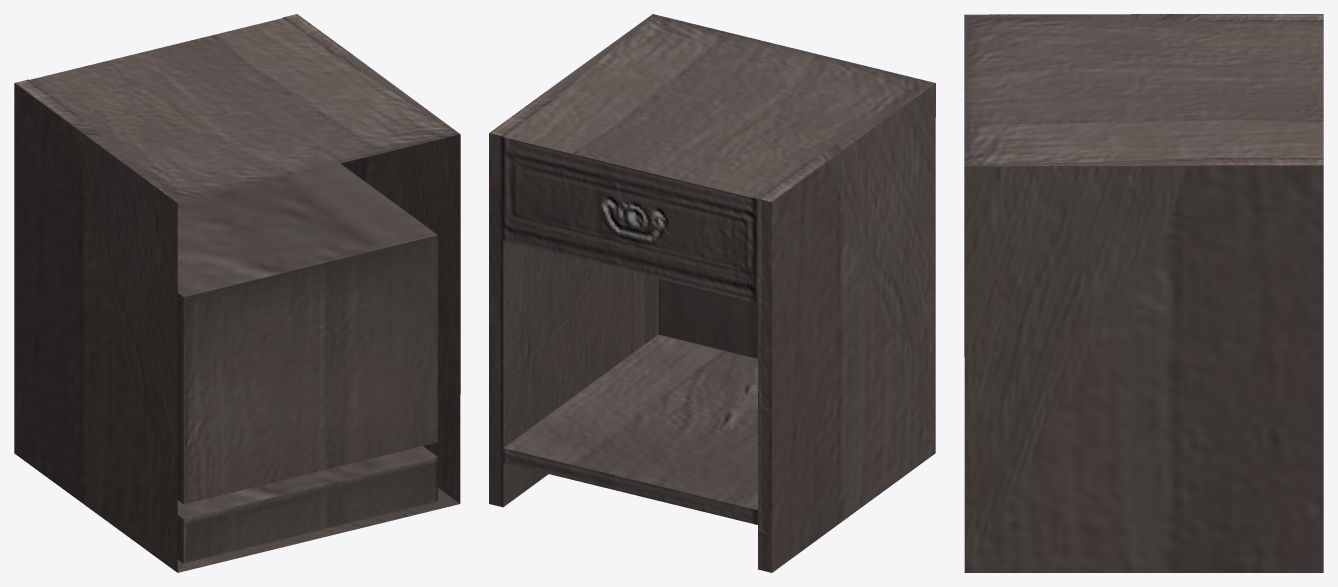
The model's file is Tumb.FBX.
3 views of the same model, side by side, from view 1: azimuth 30°, elevation 25°; view 2: azimuth 150°, elevation 25°; view 3: azimuth 270°, elevation 25° (orthographic). The views are drawn at different scales.
Parts seen in each view (by area): view 1: Tumb; view 2: Tumb; view 3: Tumb.
Boxes of the visible parts, x1,y1,x2,y2 form: Tumb: (14, 14, 460, 572); Tumb: (489, 14, 935, 572); Tumb: (964, 14, 1323, 572).
Size of the model in its own units: 14.57 by 14.58 by 18.23.
